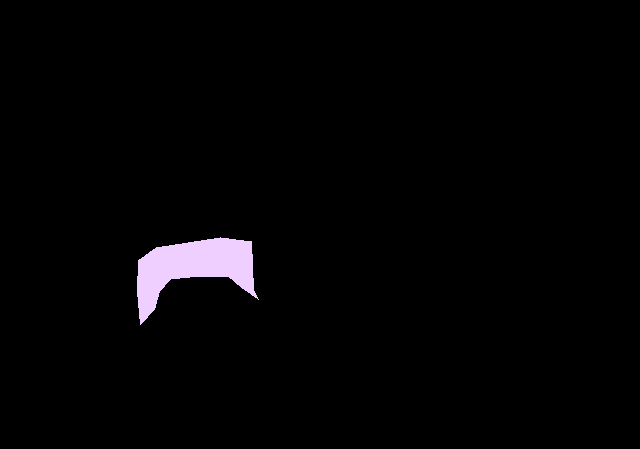Train: (137, 237, 259, 324)
